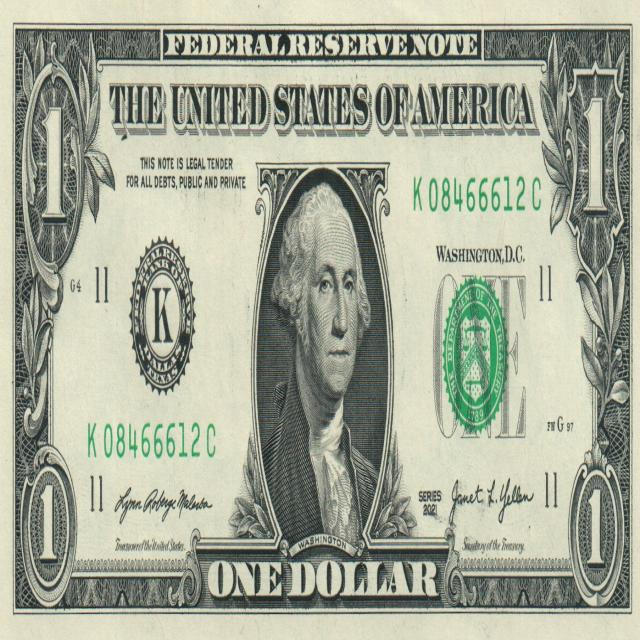SerialNumber: (88, 422, 215, 459), (414, 176, 541, 212)
